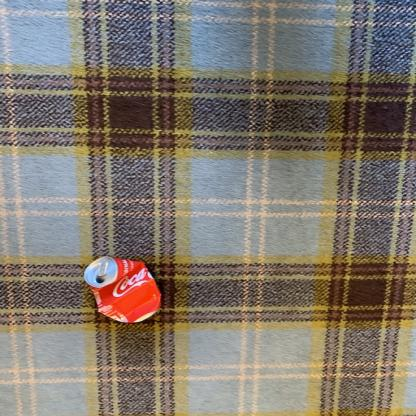trash: (82, 256, 162, 328)
